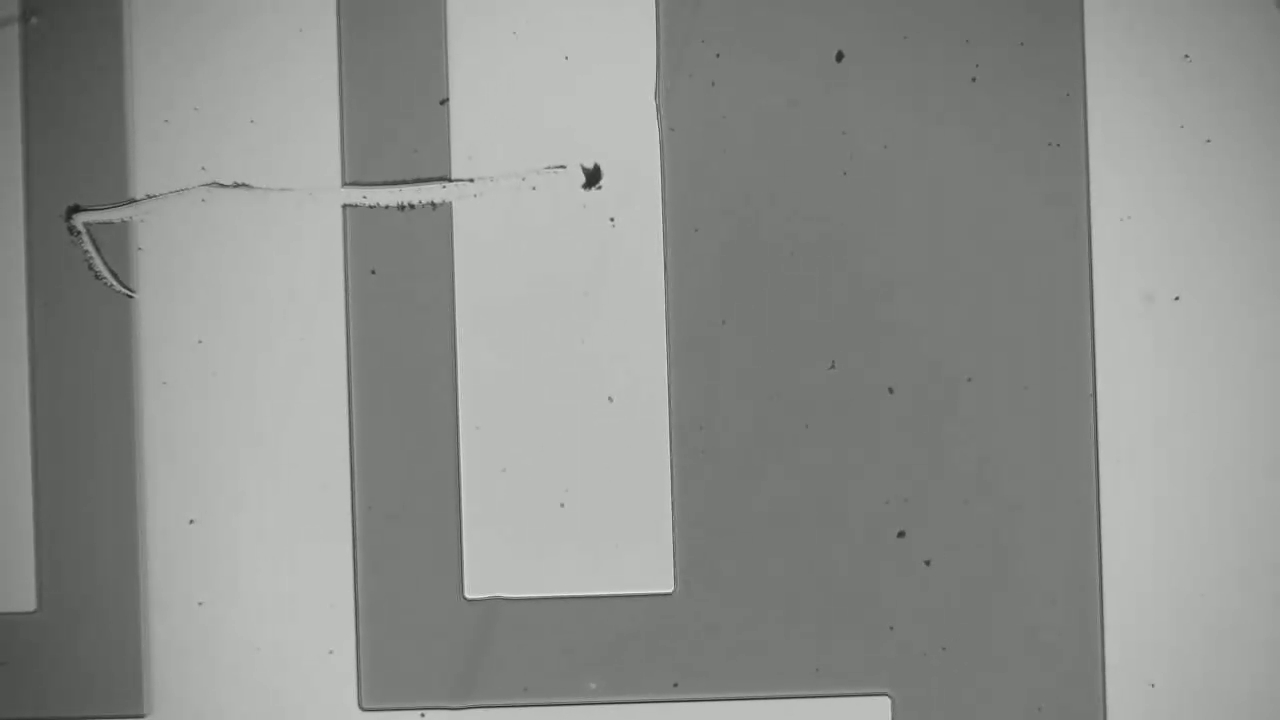Short_circuit: (317, 154, 473, 244), (4, 180, 158, 255)
